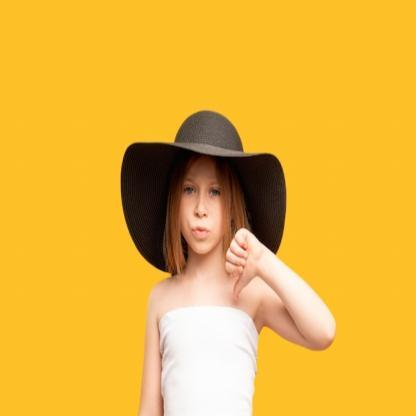thumb_down: (224, 225, 265, 305)
